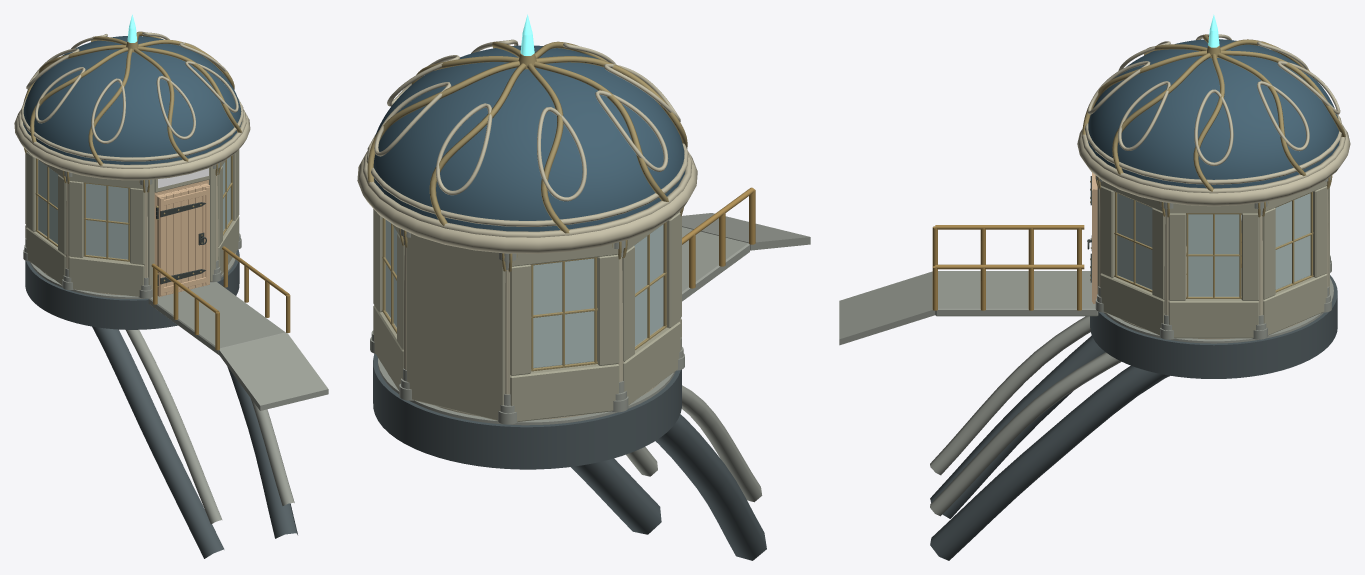
File: aether.glb
The picture shows the model from 3 angles, left to right: view 1: azimuth 30°, elevation 25°; view 2: azimuth 150°, elevation 25°; view 3: azimuth 270°, elevation 25°; orthographic projection. The views are drawn at different scales.
Parts seen in each view (by area): view 1: 星辰馆 · 八角藏星室 · roof, 星辰馆 · 八角藏星室 · stone, 星辰馆 · 八角藏星室 · darkstone, 星辰馆 · 八角藏星室 · starwall, 星辰馆 · 八角藏星室 · pale, 星辰馆 · 八角藏星室 · trim, 星辰馆 · 观星木门 · wood, 星辰馆 · 八角藏星室 · starglass, 星辰馆 · 八角藏星室 · starbronze, 星辰馆 · 观星木门 · iron, 星辰馆 · 观星木门 · 框衬 · wood, 群岛 · 星辰馆; view 2: 星辰馆 · 八角藏星室 · starwall, 星辰馆 · 八角藏星室 · roof, 星辰馆 · 八角藏星室 · darkstone, 星辰馆 · 八角藏星室 · pale, 星辰馆 · 八角藏星室 · trim, 星辰馆 · 八角藏星室 · stone, 星辰馆 · 八角藏星室 · starglass, 星辰馆 · 八角藏星室 · starbronze; view 3: 星辰馆 · 八角藏星室 · roof, 星辰馆 · 八角藏星室 · darkstone, 星辰馆 · 八角藏星室 · stone, 星辰馆 · 八角藏星室 · starwall, 星辰馆 · 八角藏星室 · pale, 星辰馆 · 八角藏星室 · starglass, 星辰馆 · 八角藏星室 · trim, 星辰馆 · 八角藏星室 · starbronze, 星辰馆 · 观星木门 · wood.
Boxes of the visible parts, x1,y1,x2,y2 form: 星辰馆 · 八角藏星室 · roof: (23, 36, 241, 164); 星辰馆 · 八角藏星室 · stone: (23, 163, 328, 524); 星辰馆 · 八角藏星室 · darkstone: (25, 249, 297, 558); 星辰馆 · 八角藏星室 · starwall: (25, 149, 239, 296); 星辰馆 · 八角藏星室 · pale: (14, 31, 250, 295); 星辰馆 · 八角藏星室 · trim: (23, 31, 241, 261); 星辰馆 · 观星木门 · wood: (156, 183, 209, 296); 星辰馆 · 八角藏星室 · starglass: (38, 157, 230, 259); 星辰馆 · 八角藏星室 · starbronze: (151, 246, 290, 350); 星辰馆 · 观星木门 · iron: (156, 202, 206, 285); 星辰馆 · 观星木门 · 框衬 · wood: (154, 179, 208, 264); 群岛 · 星辰馆: (158, 168, 208, 187); 星辰馆 · 八角藏星室 · starwall: (373, 209, 681, 421); 星辰馆 · 八角藏星室 · roof: (373, 45, 685, 231); 星辰馆 · 八角藏星室 · darkstone: (373, 353, 766, 560); 星辰馆 · 八角藏星室 · pale: (357, 39, 697, 419); 星辰馆 · 八角藏星室 · trim: (367, 41, 687, 371); 星辰馆 · 八角藏星室 · stone: (370, 213, 810, 502); 星辰馆 · 八角藏星室 · starglass: (386, 220, 663, 368); 星辰馆 · 八角藏星室 · starbronze: (682, 187, 755, 288); 星辰馆 · 八角藏星室 · roof: (1087, 39, 1339, 188); 星辰馆 · 八角藏星室 · darkstone: (930, 275, 1337, 560); 星辰馆 · 八角藏星室 · stone: (839, 176, 1333, 516); 星辰馆 · 八角藏星室 · starwall: (1097, 181, 1329, 338); 星辰馆 · 八角藏星室 · pale: (1077, 34, 1350, 339); 星辰馆 · 八角藏星室 · starglass: (1117, 193, 1310, 296); 星辰馆 · 八角藏星室 · trim: (1082, 34, 1345, 298); 星辰馆 · 八角藏星室 · starbronze: (932, 225, 1241, 310); 星辰馆 · 观星木门 · wood: (1092, 172, 1097, 303).
Bounding box in the file's own units: 5.69 × 12.03 × 10.65.
